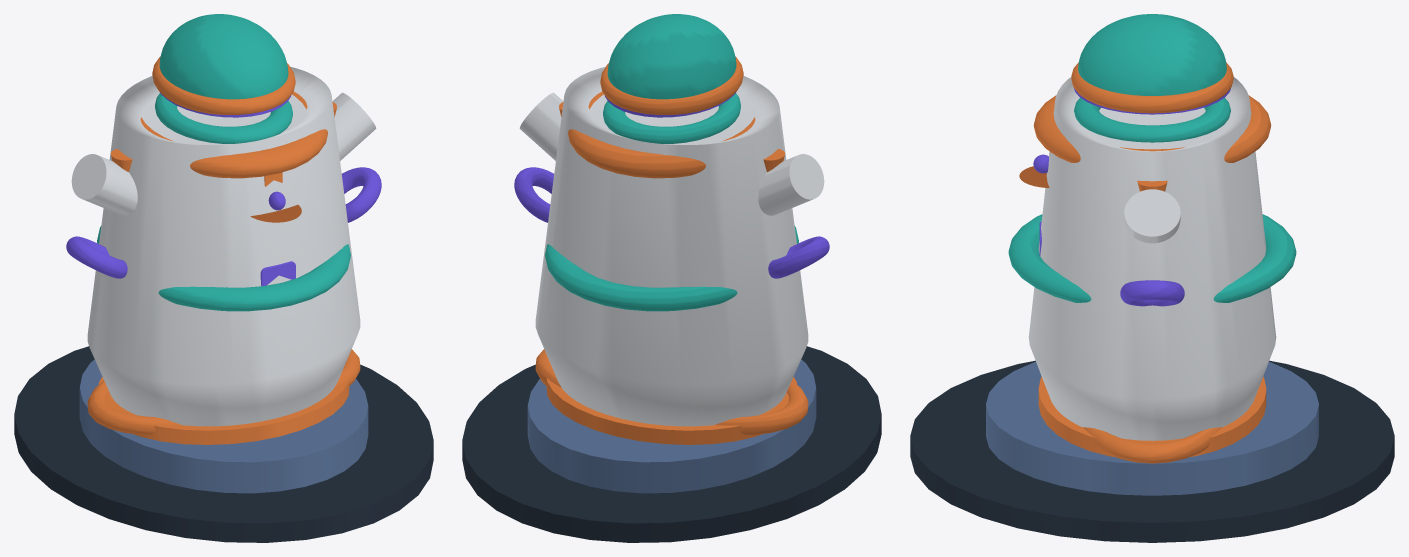
File: 0361_航空航天图鉴_舱内航天服.glb
3 views of the same model, side by side, from view 1: azimuth 30°, elevation 25°; view 2: azimuth 150°, elevation 25°; view 3: azimuth 270°, elevation 25° (orthographic). The views are drawn at different scales.
Visible parts, largest first — view 1: card_0361; view 2: card_0361; view 3: card_0361.
Boxes of the visible parts, x1=… form: card_0361: x1=14, y1=14, x2=433, y2=542; card_0361: x1=462, y1=14, x2=881, y2=542; card_0361: x1=910, y1=14, x2=1394, y2=542.
Size of the model in its own units: 0.8545 by 1 by 1.01.
